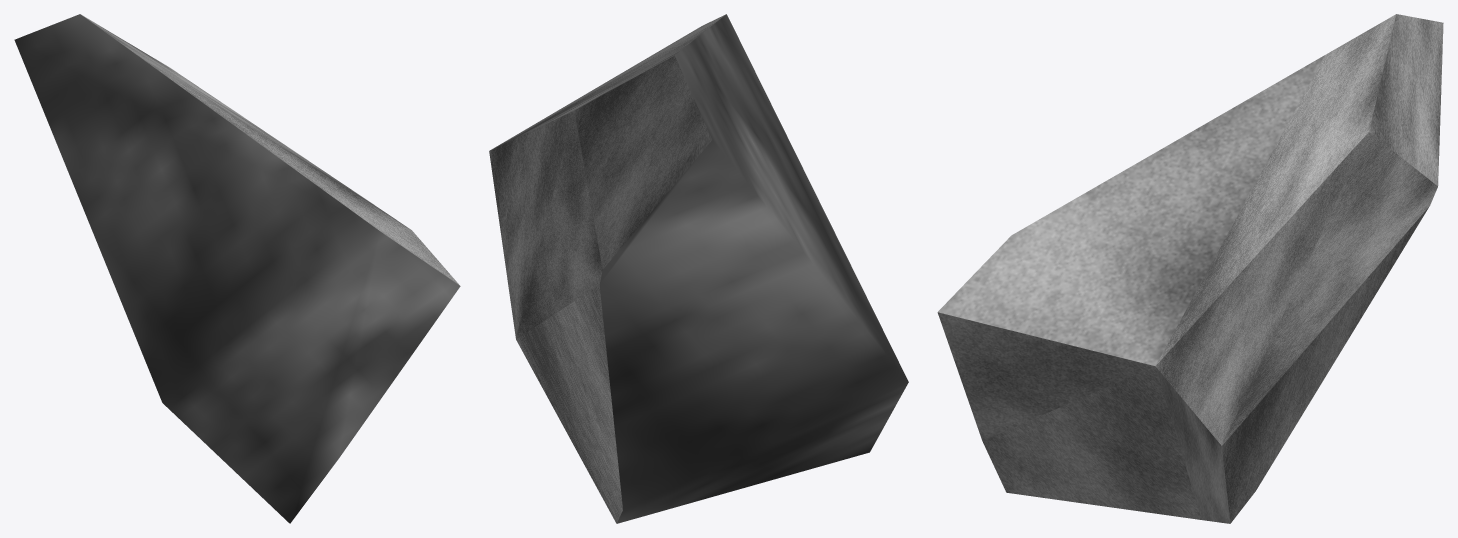
Rendered from tail_cell_004.fbx.
3 views of the same model, side by side, from view 1: azimuth 30°, elevation 25°; view 2: azimuth 150°, elevation 25°; view 3: azimuth 270°, elevation 25° (orthographic). The views are drawn at different scales.
Parts seen in each view (by area): view 1: tail_cell.004; view 2: tail_cell.004; view 3: tail_cell.004.
Boxes of the visible parts, left/top/right/bottom form: tail_cell.004: left=14, top=14, right=460, bottom=523; tail_cell.004: left=489, top=14, right=908, bottom=523; tail_cell.004: left=937, top=14, right=1443, bottom=523.
Size of the model in its own units: 23.98 by 33.29 by 33.49.
